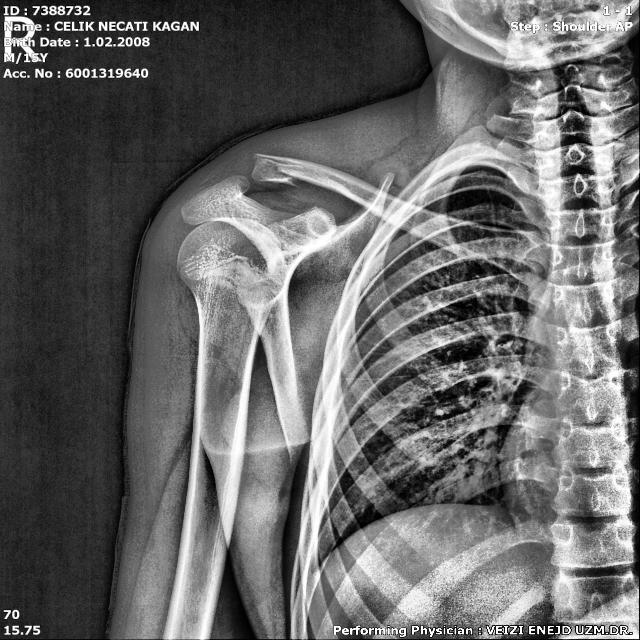Fracture: (238, 147, 336, 192)
